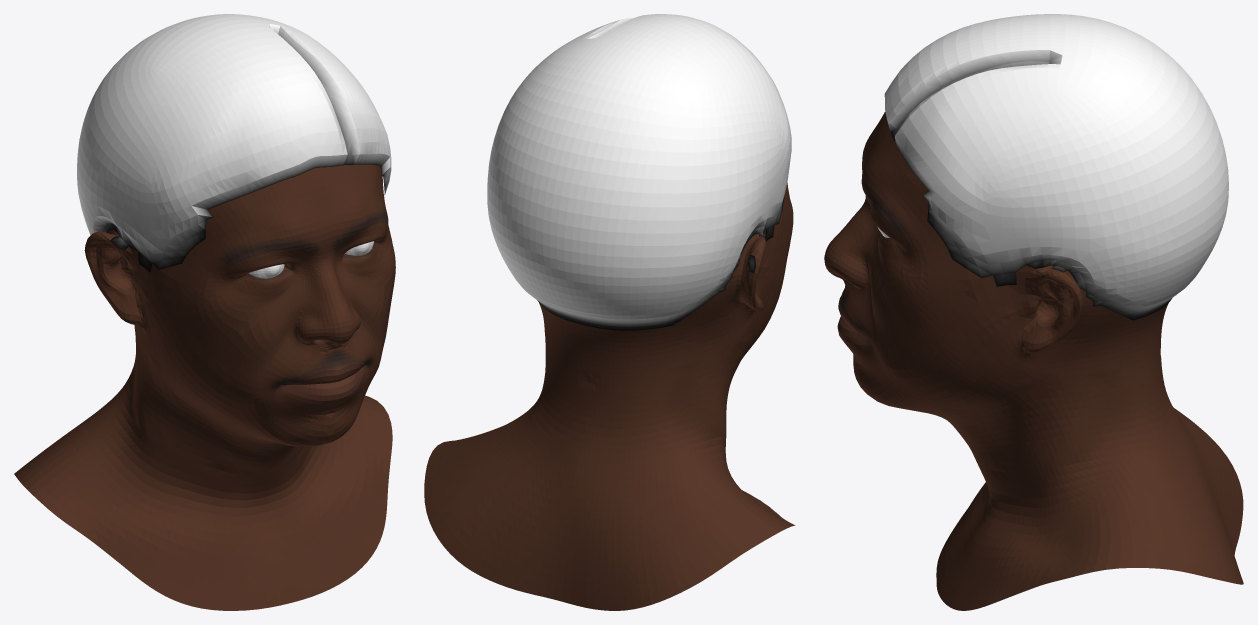
Rendered from ramesh.glb.
3 renders of one model, left to right at view 1: azimuth 30°, elevation 25°; view 2: azimuth 150°, elevation 25°; view 3: azimuth 270°, elevation 25°, orthographic. The views are drawn at different scales.
Parts seen in each view (by area): view 1: gnm_head; view 2: gnm_head; view 3: gnm_head.
Part boxes in pixels (x1=…): gnm_head: x1=14, y1=14, x2=395, y2=610; gnm_head: x1=424, y1=14, x2=795, y2=610; gnm_head: x1=824, y1=14, x2=1243, y2=610.
Bounding box in the file's own units: 0.2529 × 0.3667 × 0.253.
